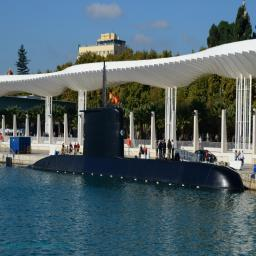submarine: (27, 108, 247, 193)
